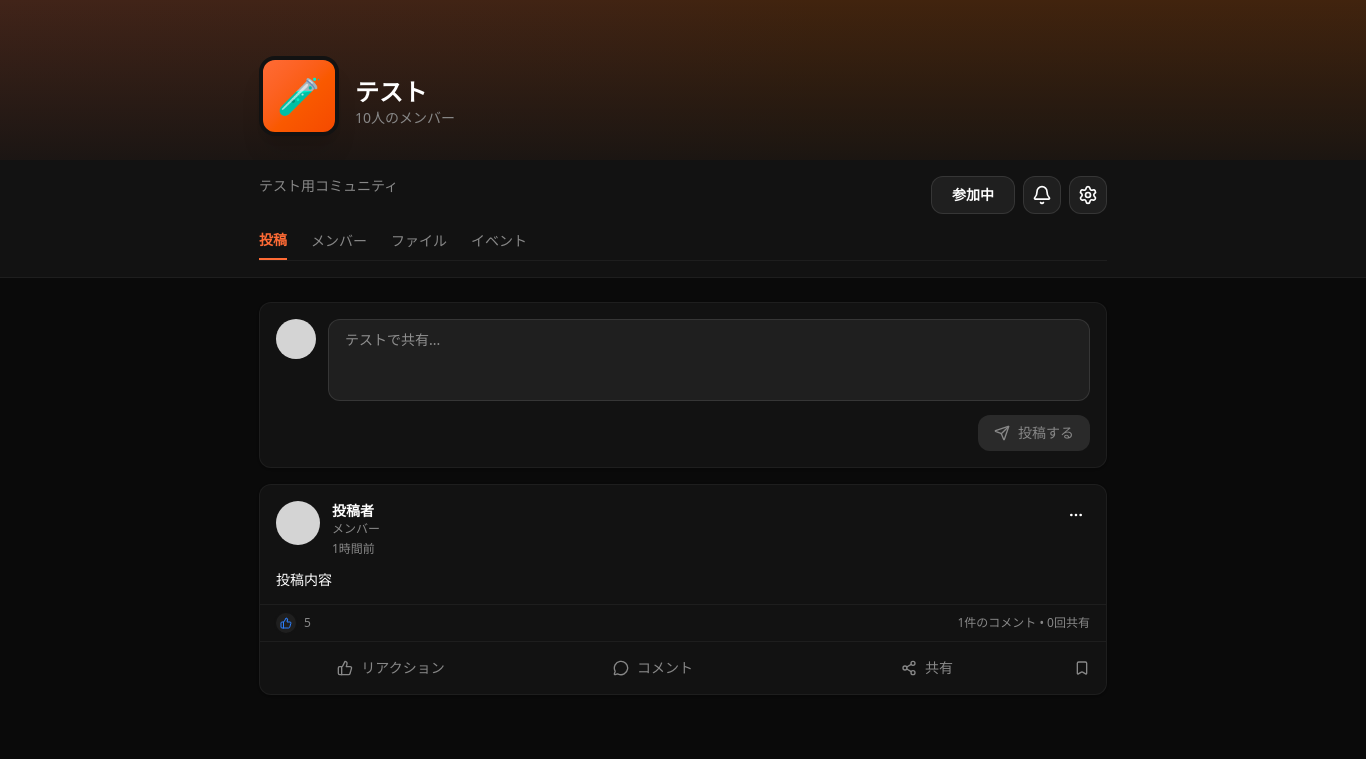
Test case: Profiles / DefaultAvatar › should use default avatar when comment author has no avatar
Click the button "コメント": (653, 668) x1=518 y1=650 x2=788 y2=686
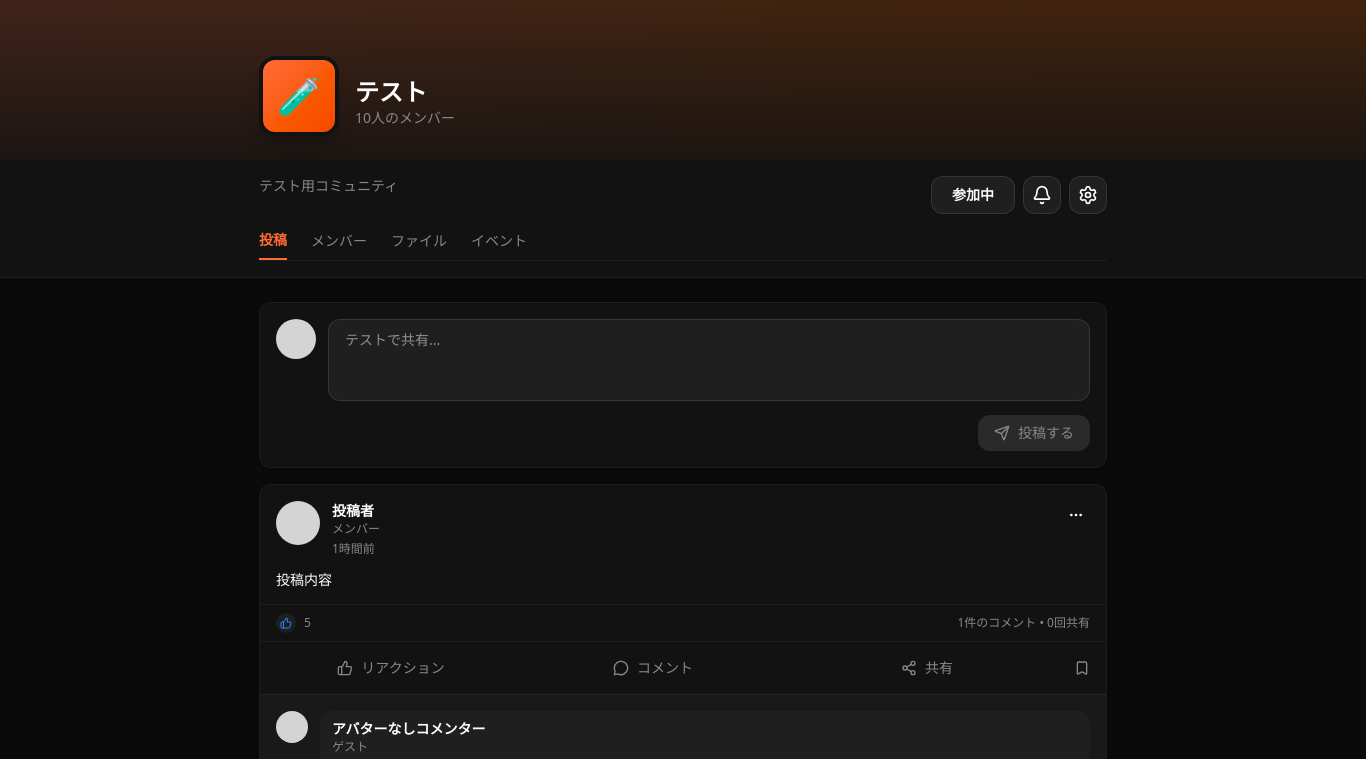
Result: the heading "アバターなしコメンター" is shown at x1=332 y1=719 x2=486 y2=738
